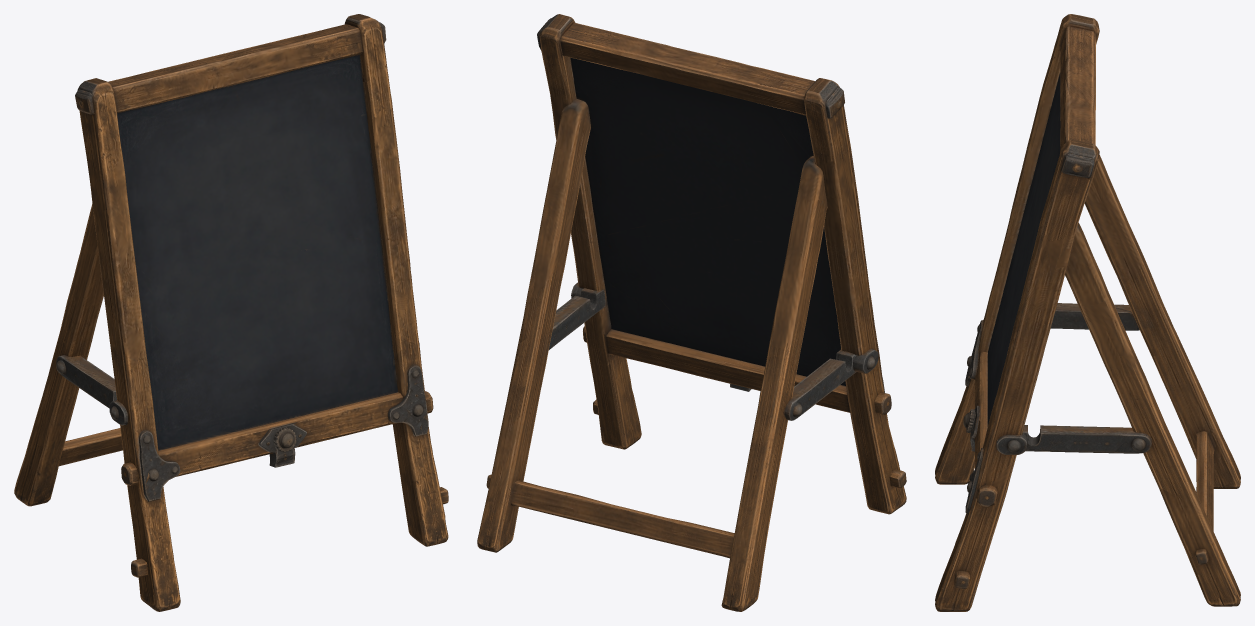
File: slate_board.glb
The picture shows the model from 3 angles, left to right: view 1: azimuth 30°, elevation 25°; view 2: azimuth 150°, elevation 25°; view 3: azimuth 270°, elevation 25°; orthographic projection. The views are drawn at different scales.
Visible parts, largest first — view 1: output_unwrapped; view 2: output_unwrapped; view 3: output_unwrapped.
Part boxes in pixels (<box>): output_unwrapped: <box>14,14,448,611</box>; output_unwrapped: <box>477,14,906,611</box>; output_unwrapped: <box>935,14,1240,611</box>.
Size of the model in its own units: 1.3 by 1.9 by 1.14.
1 material, 1 textured.
